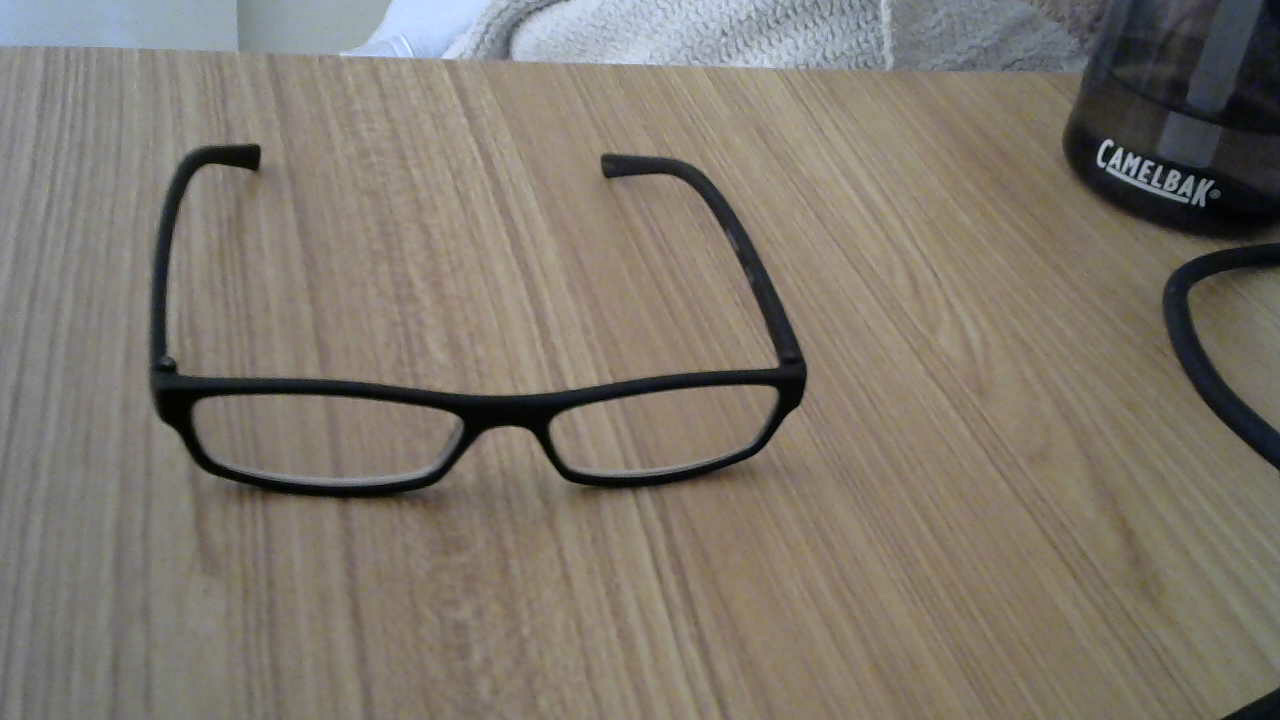Glasses: (100, 344, 844, 522)
